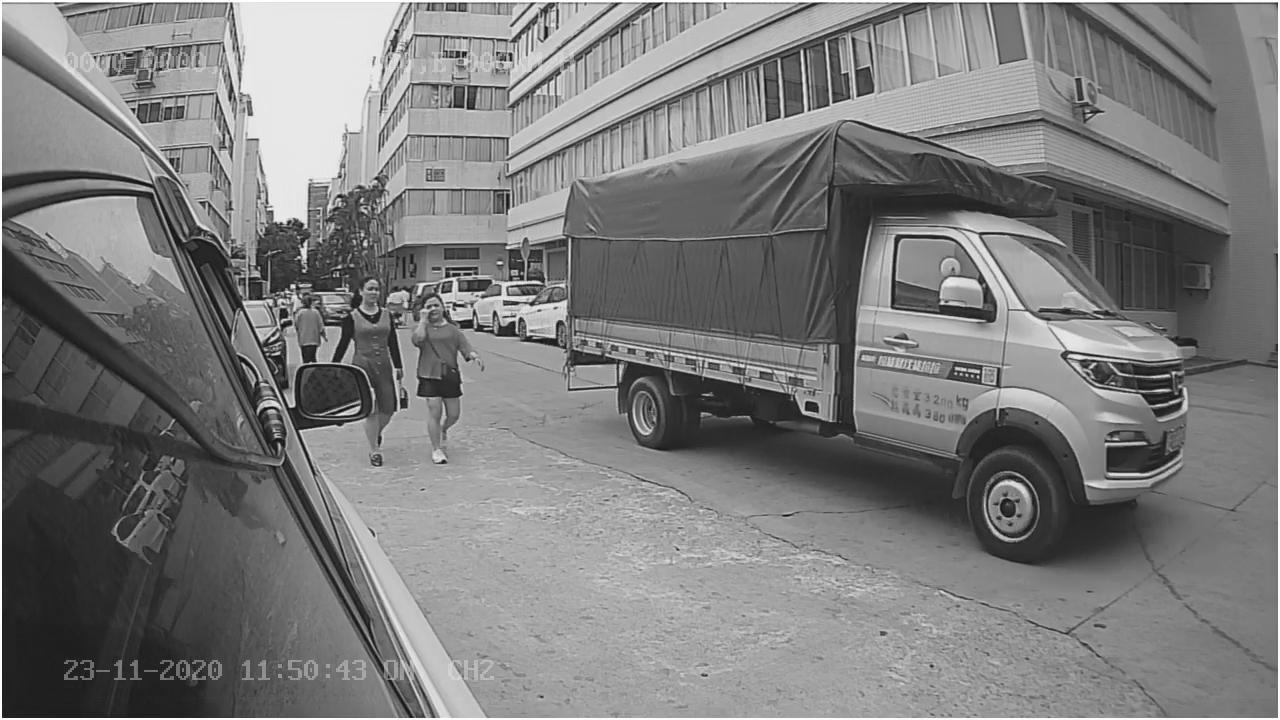person: (408, 292, 485, 464)
